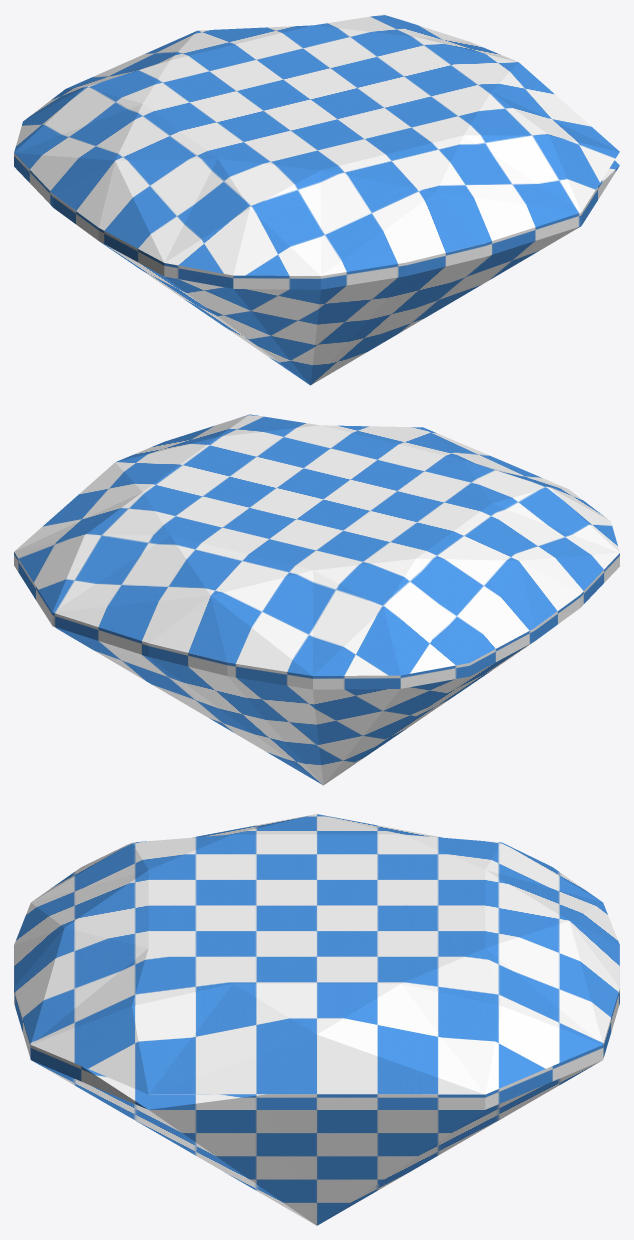
Rendered from CushionCutPointy.FBX.
3 views of the same model, one above another, from view 1: azimuth 30°, elevation 25°; view 2: azimuth 150°, elevation 25°; view 3: azimuth 270°, elevation 25° (orthographic). The views are drawn at different scales.
Parts seen in each view (by area): view 1: CushionCutPointy; view 2: CushionCutPointy; view 3: CushionCutPointy.
Part boxes in pixels (<box>): CushionCutPointy: <box>14,14,619,385</box>; CushionCutPointy: <box>14,414,619,785</box>; CushionCutPointy: <box>14,814,619,1225</box>.
Bounding box in the file's own units: 1.14 × 0.6668 × 1.14.
